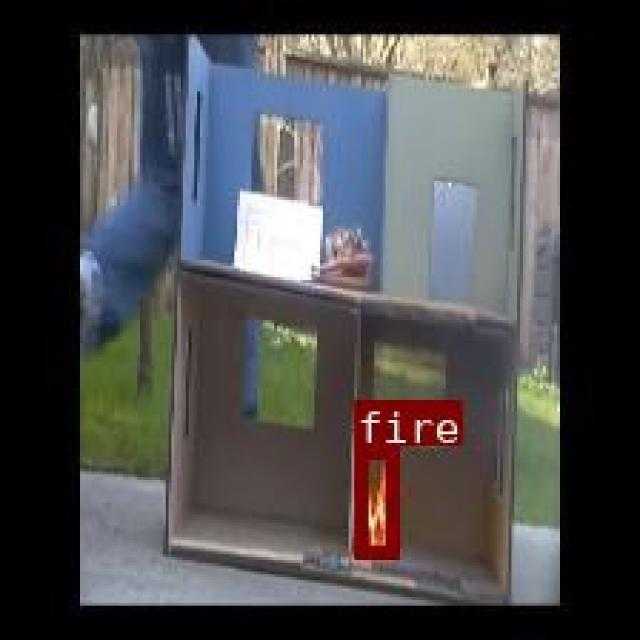fire: (353, 445, 397, 555)
